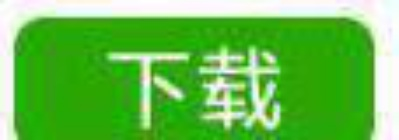Button: (1, 1, 398, 139)
